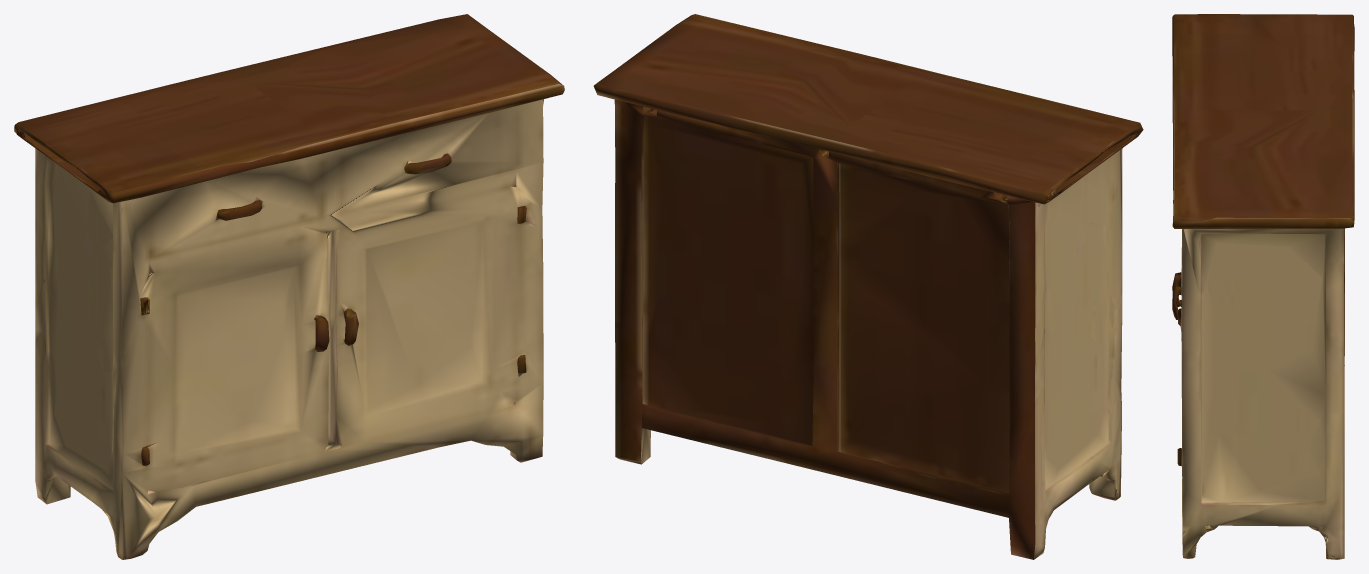
The model's file is aparador.movil.glb.
3 renders of one model, left to right at view 1: azimuth 30°, elevation 25°; view 2: azimuth 150°, elevation 25°; view 3: azimuth 270°, elevation 25°, orthographic. The views are drawn at different scales.
Parts seen in each view (by area): view 1: geometry_0; view 2: geometry_0; view 3: geometry_0.
Boxes of the visible parts, x1,y1,x2,y2 form: geometry_0: (14, 14, 564, 559); geometry_0: (593, 14, 1143, 559); geometry_0: (1172, 14, 1354, 559).
Size of the model in its own units: 1.2 by 0.9496 by 0.4484.
Materials: 1 (1 with a texture image).
